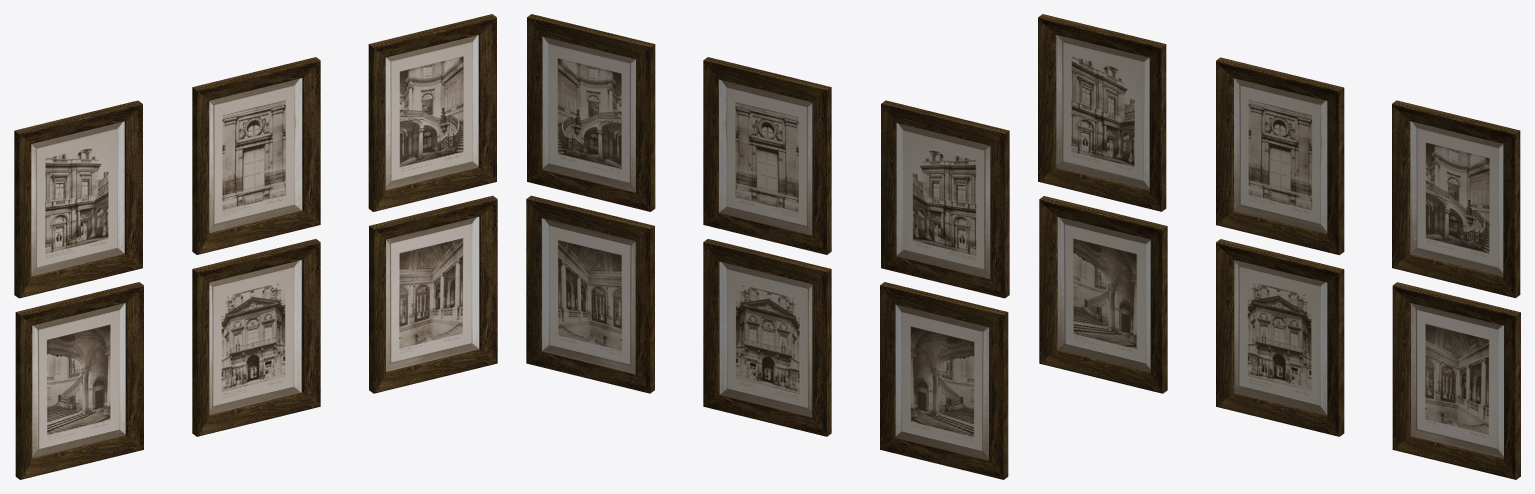
File: Pictures.FBX
3 views of the same model, side by side, from view 1: azimuth 30°, elevation 25°; view 2: azimuth 150°, elevation 25°; view 3: azimuth 330°, elevation 25° (orthographic).
Visible parts, largest first — view 1: Picture 1; view 2: Picture 1; view 3: Picture 1.
Boxes of the visible parts, x1,y1,x2,y2 form: Picture 1: (14,14,497,479); Picture 1: (526,14,1009,479); Picture 1: (1038,14,1520,479).
Size of the model in its own units: 199 by 138 by 3.58.
2 materials, 2 textured.
